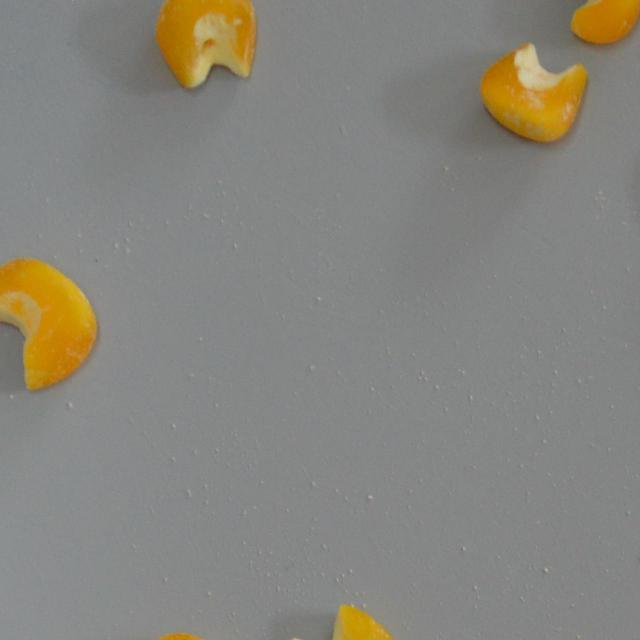dañado: (152, 0, 258, 90)
pelicula: (0, 256, 97, 392), (480, 42, 590, 142), (284, 604, 400, 640)
